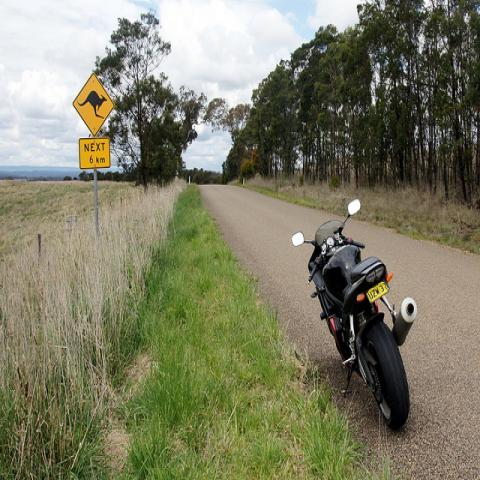motorcycle: (291, 198, 418, 434)
